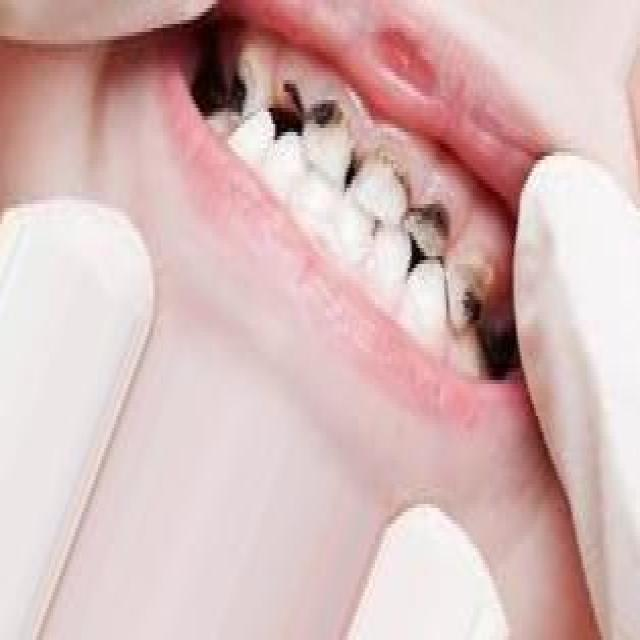caries: (353, 134, 408, 232), (406, 175, 450, 267), (452, 232, 493, 330), (307, 82, 345, 179), (227, 44, 270, 115), (279, 50, 314, 123)
